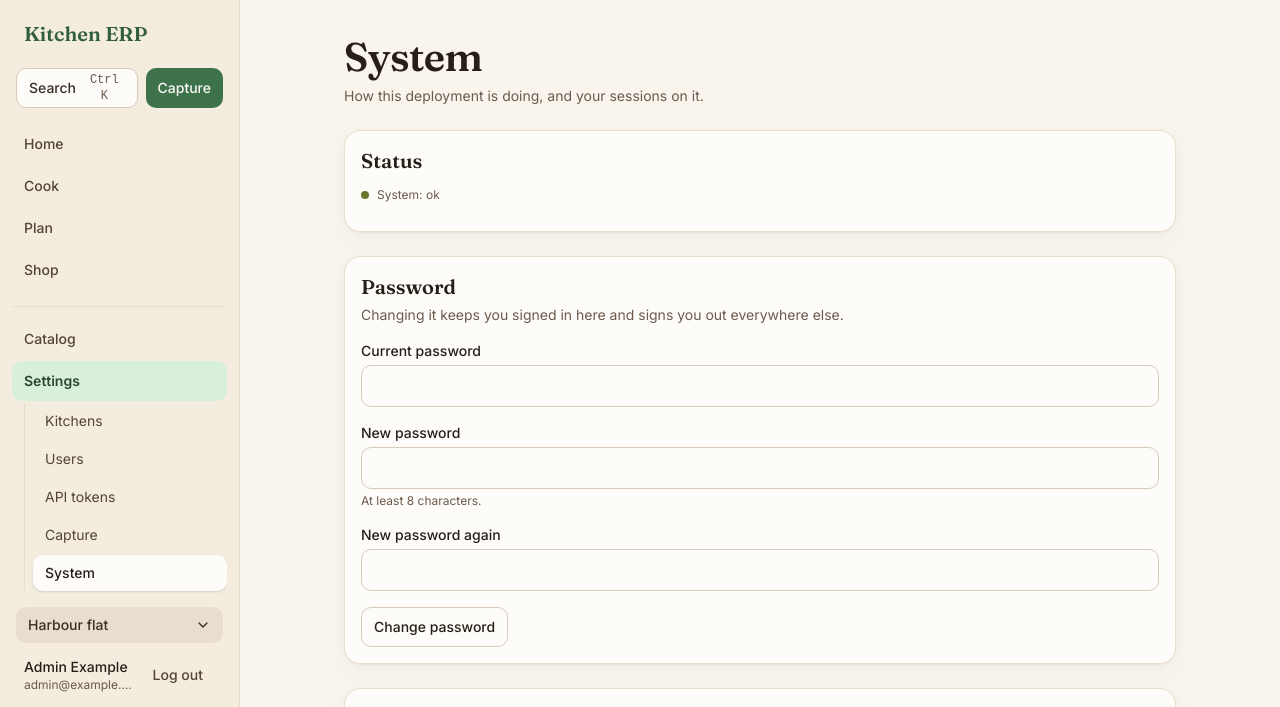
Test: the kitchen switcher (UI-2.4, UI-2.5) › closes on Escape and returns focus to the chip, choosing nothing
Check: the heading "System" is shown, box [344,32,482,81]
Click the button named "Kitchen: Harbour flat" at (120, 625), box [16,607,223,643]
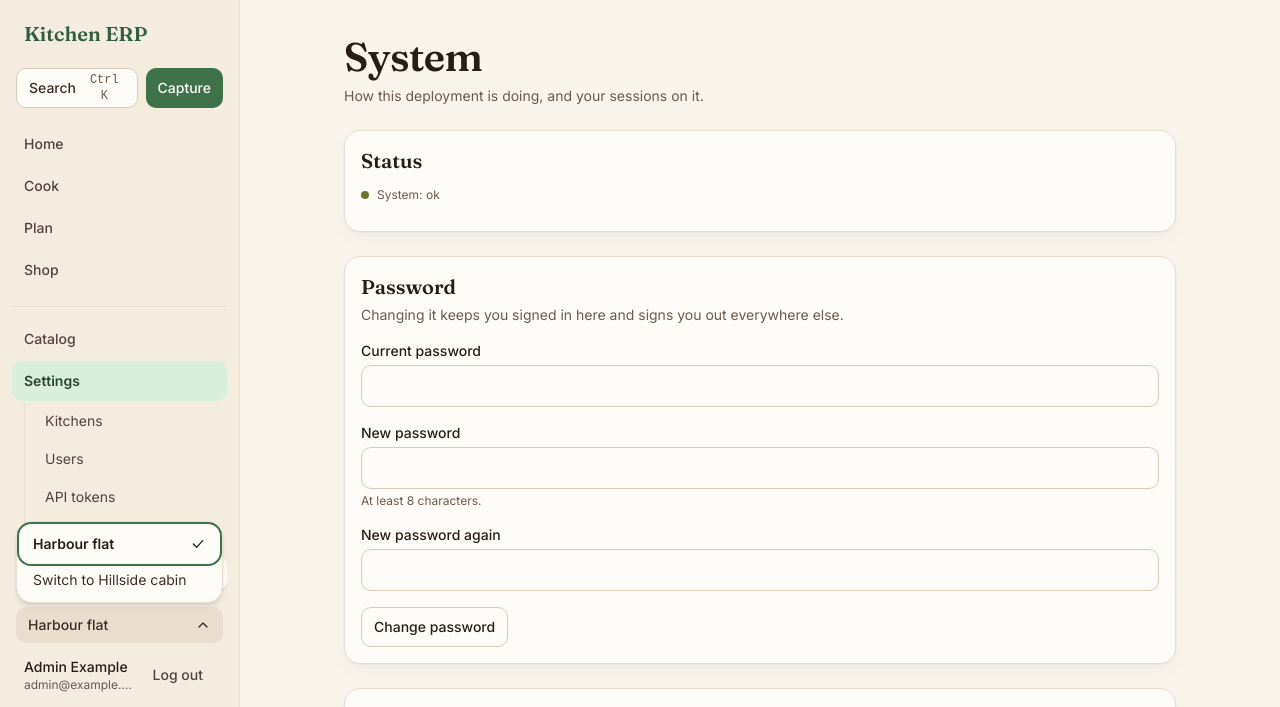
Check: the menu named "Switch kitchen" is shown, box [16,521,223,603]
Press Escape
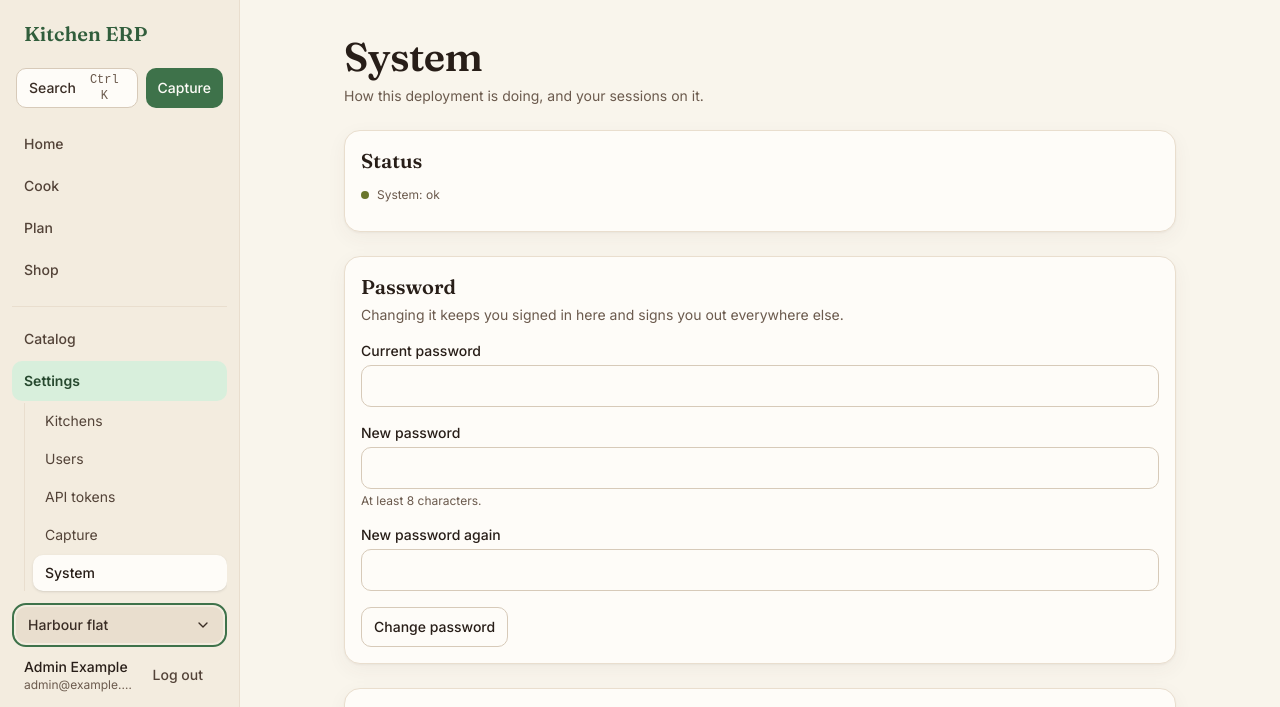
Check: the menu is gone
